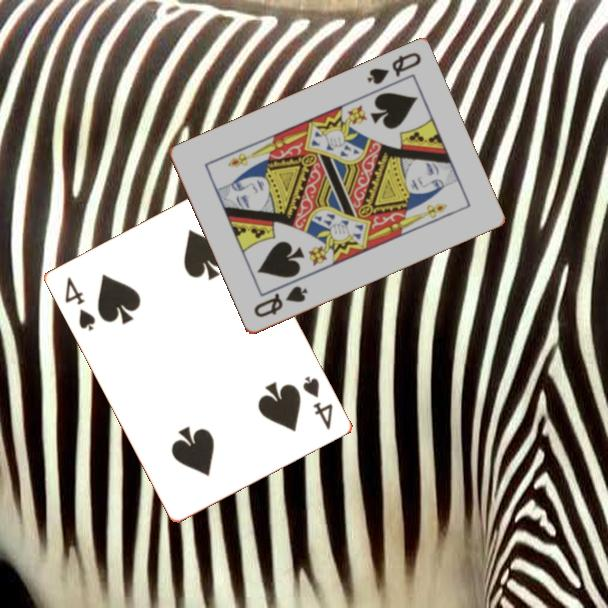s04: (62, 273, 99, 334), (299, 372, 336, 432)
s12: (363, 49, 424, 88), (250, 283, 311, 321)
